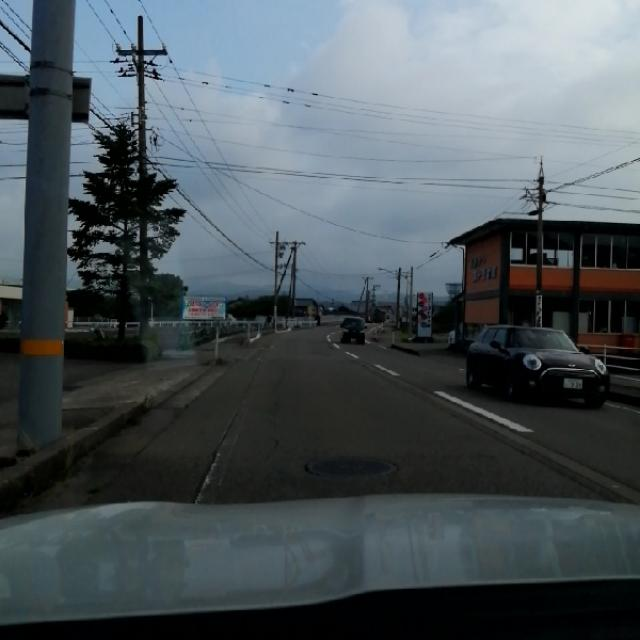pothole: (117, 394, 171, 474), (202, 417, 250, 498)
